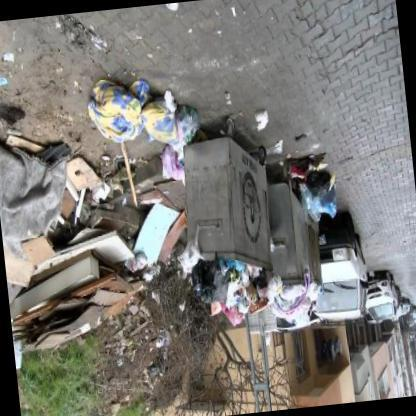Garbage: (190, 252, 274, 320), (296, 154, 336, 222), (266, 277, 317, 324)
